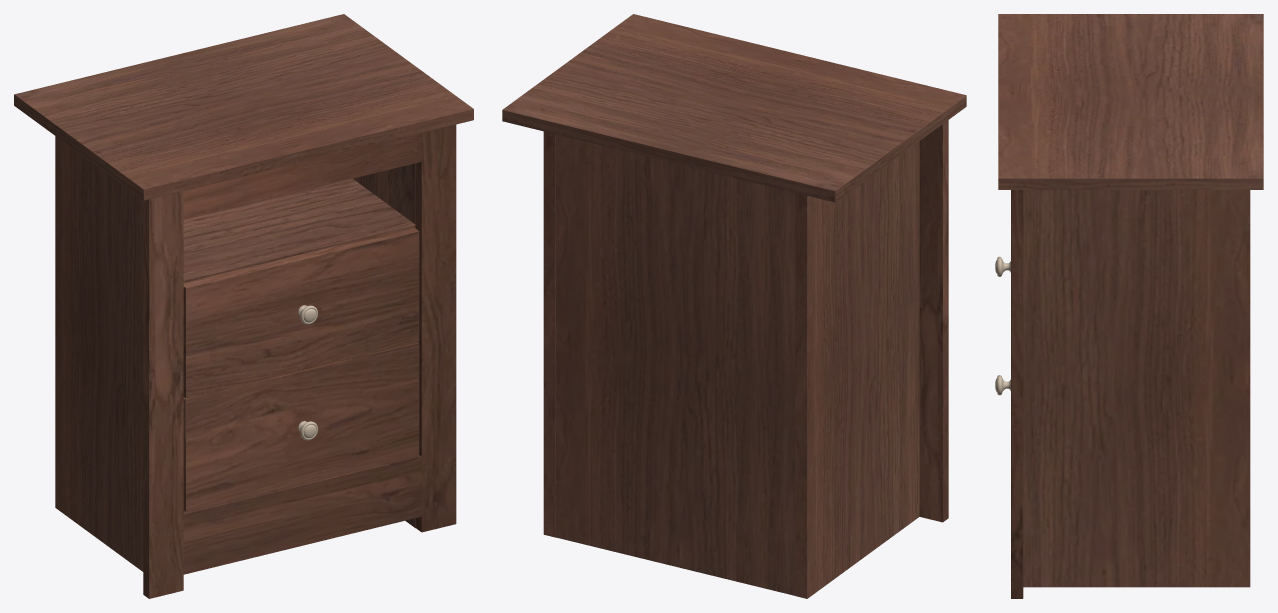
File: abo-B07Q2MFD1V.glb
The picture shows the model from 3 angles, left to right: view 1: azimuth 30°, elevation 25°; view 2: azimuth 150°, elevation 25°; view 3: azimuth 270°, elevation 25°; orthographic projection. The views are drawn at different scales.
Size of the model in its own units: 0.589 by 0.711 by 0.406.
1 material, 1 textured.
